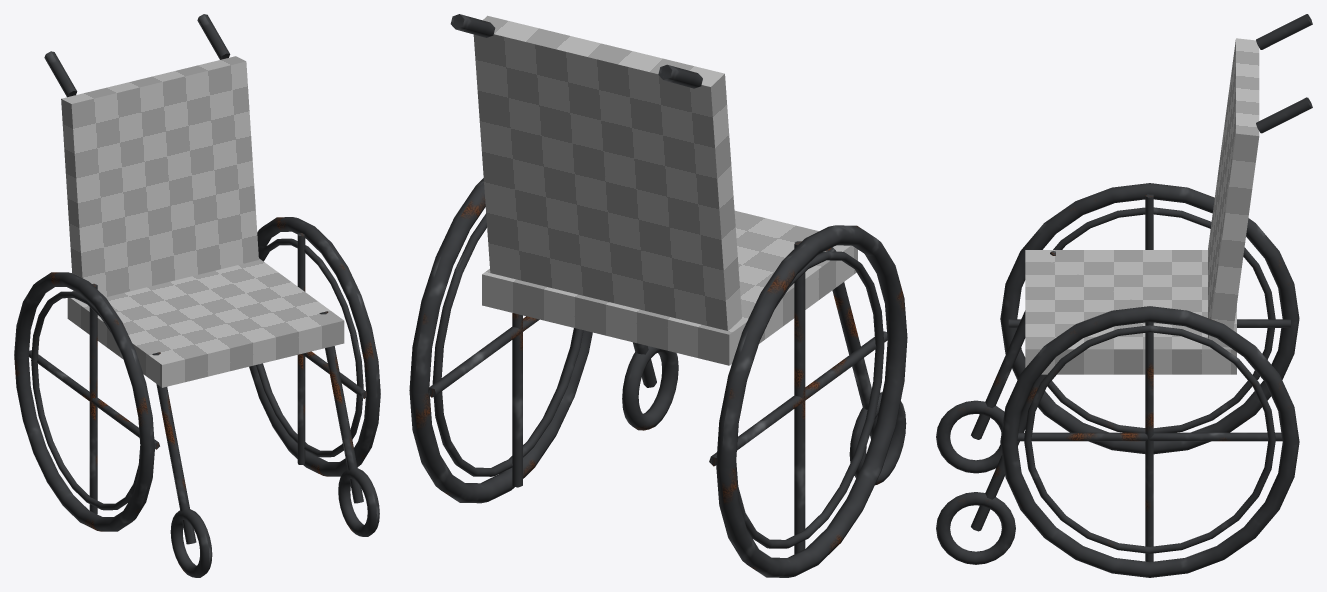
File: wheelchair.glb
The picture shows the model from 3 angles, left to right: view 1: azimuth 30°, elevation 25°; view 2: azimuth 150°, elevation 25°; view 3: azimuth 270°, elevation 25°; orthographic projection. The views are drawn at different scales.
Visible parts, largest first — view 1: dyn_velvet_variant, wheelchair; view 2: dyn_velvet_variant, wheelchair; view 3: wheelchair, dyn_velvet_variant.
Part boxes in pixels (box(x1,y1,x2,y2)): dyn_velvet_variant: box(61, 56, 344, 387); wheelchair: box(14, 14, 380, 577); dyn_velvet_variant: box(473, 15, 857, 365); wheelchair: box(409, 14, 907, 577); wheelchair: box(936, 14, 1312, 577); dyn_velvet_variant: box(1025, 38, 1259, 374).
Bounding box in the file's own units: 0.656 × 1.09 × 0.8019.
Materials: 2 (2 with a texture image).
